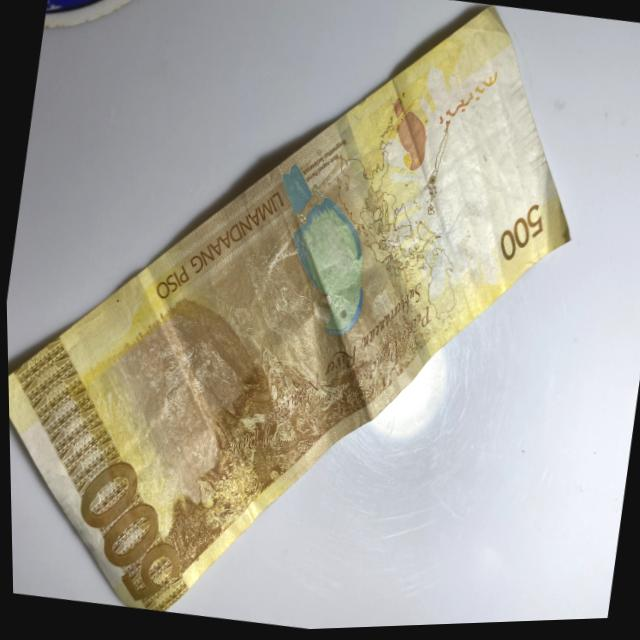500_big_parrot: (255, 159, 380, 357)
500_parrot_watermark: (378, 96, 433, 185)
value_watermark: (492, 109, 521, 151)
